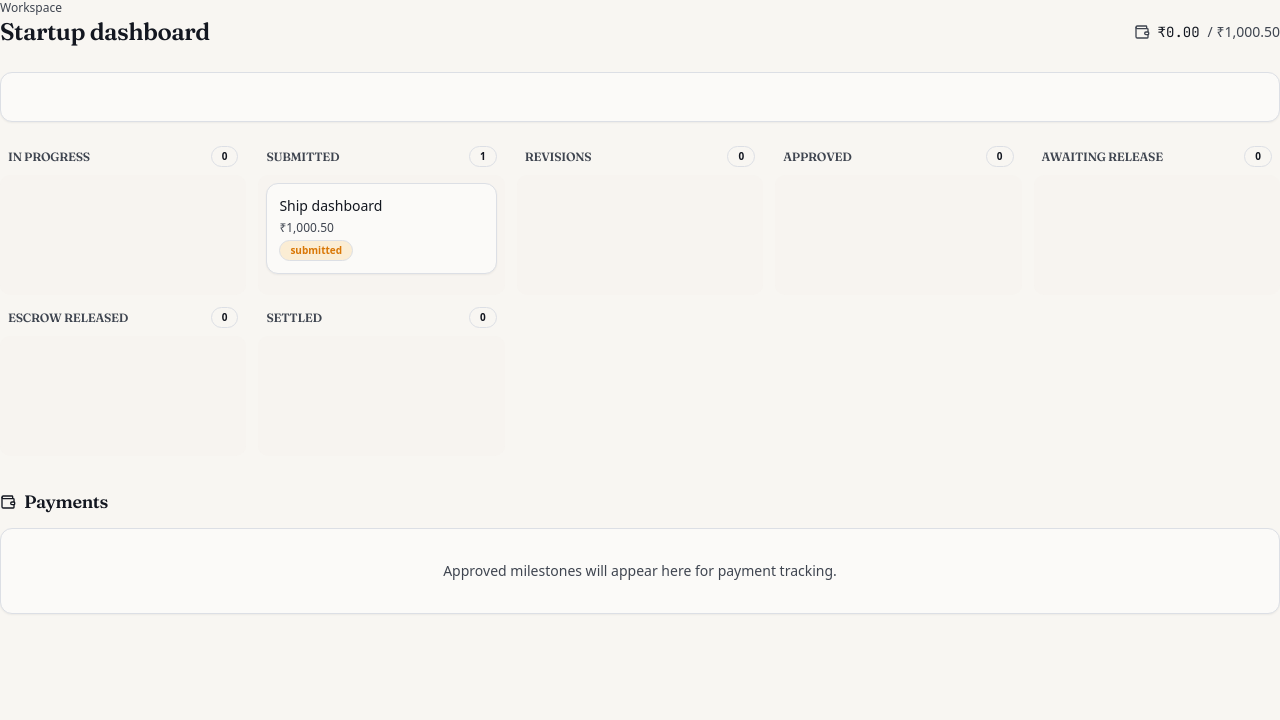
it: Workspace escrow approval › retains the submitted milestone and permits retry when the release fails
The width and height of the screenshot is (1280, 720).
Later steps or results of the test are not shown.
Click the button "Ship dashboard ₹1,000.50 submitted" at (382, 228), box x1=266 y1=183 x2=497 y2=274
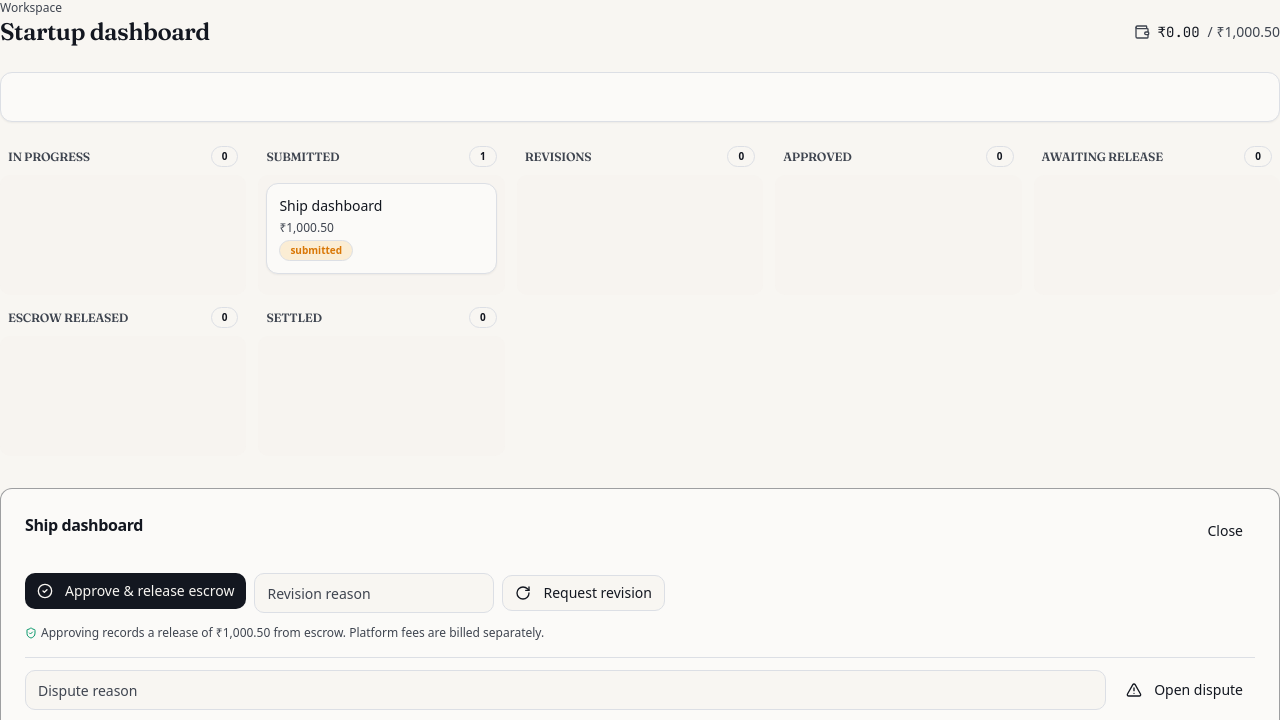
Click the button "Approve & release escrow" at (136, 591), box x1=25 y1=573 x2=246 y2=609
Expected: the text "submitted" is shown, x1=279 y1=240 x2=353 y2=261
Expected: the button "Approve & release escrow" is shown, x1=25 y1=573 x2=246 y2=609
